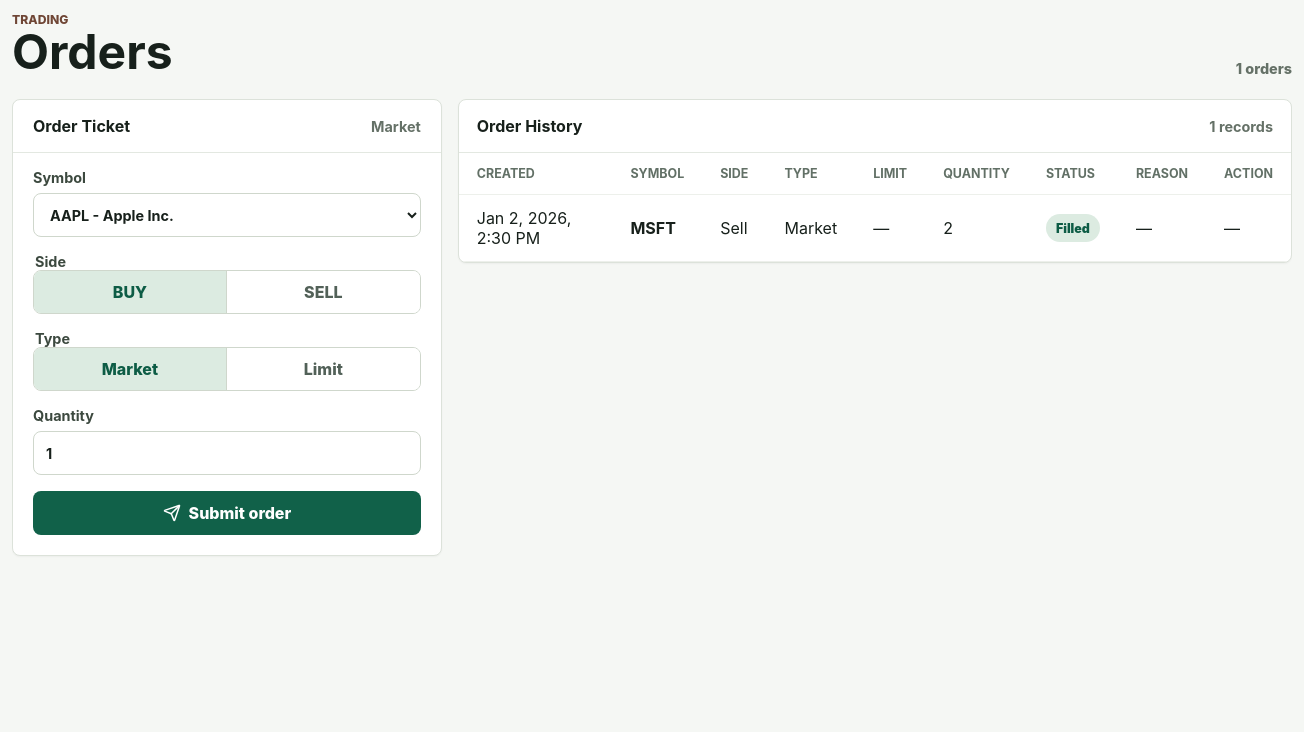
Test case: OrdersPage › requires a positive limit price for limit orders
Expected: the dropdown labelled "Symbol" is shown, [33,193,421,237]
Click the button "Limit" at (323, 369), box [227,348,420,390]
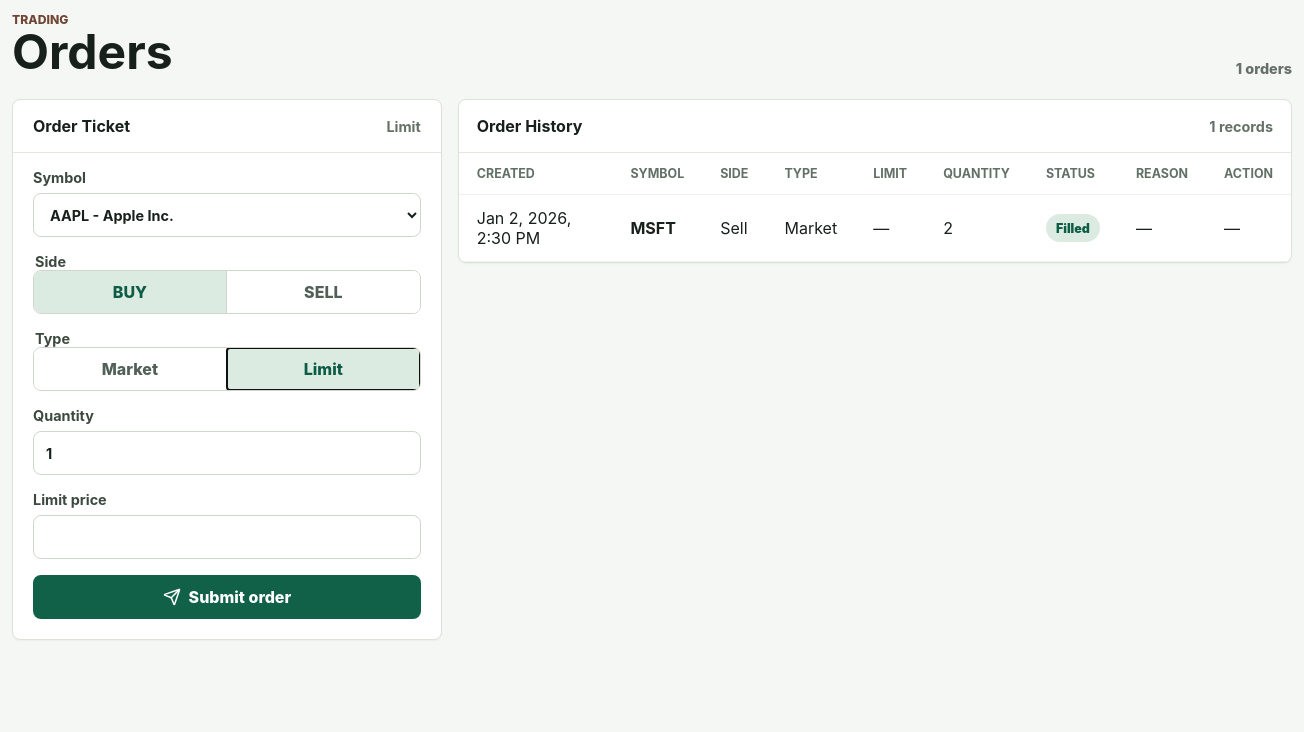
Click the button "Submit order" at (227, 597), box [33,575,421,619]
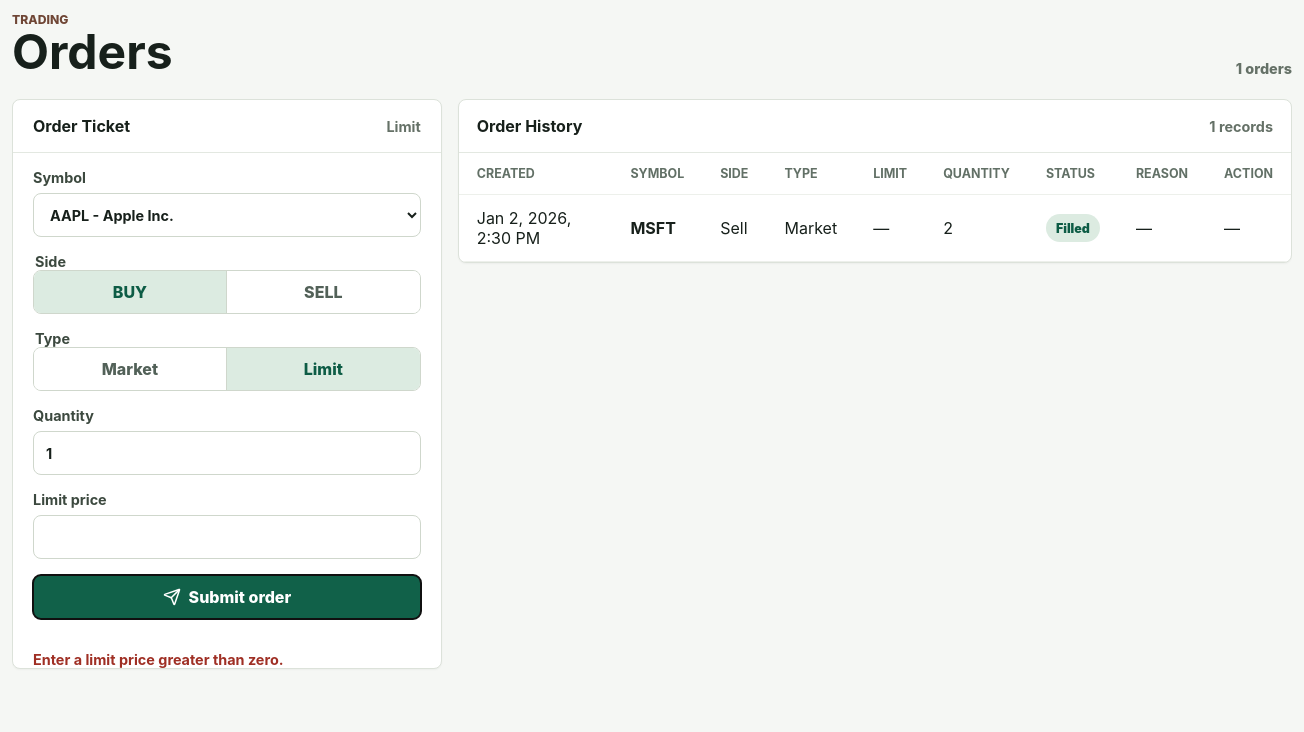
Result: the message reads "Enter a limit price greater than zero." at [33,651,284,668]
